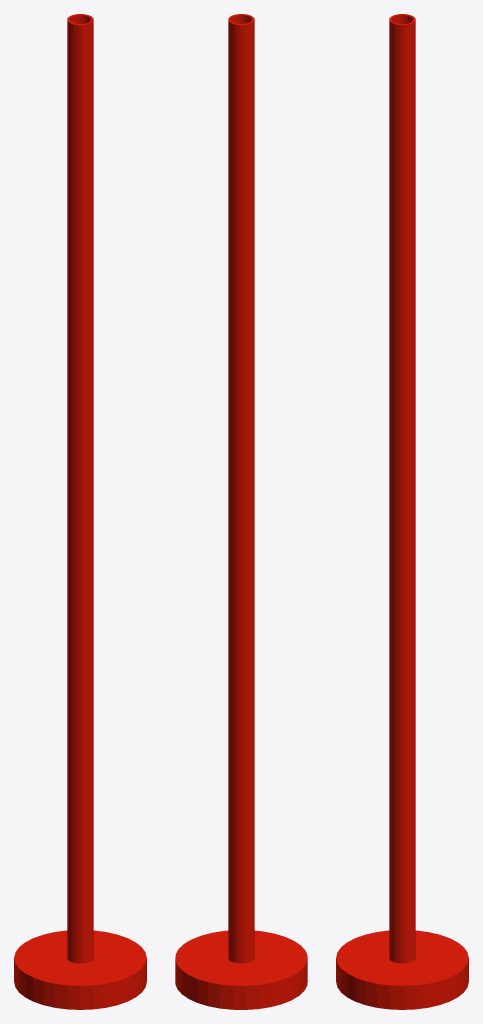
File: red_flare.dae
3 renders of one model, left to right at view 1: azimuth 90°, elevation 25°; view 2: azimuth 150°, elevation 25°; view 3: azimuth 270°, elevation 25°, orthographic.
Visible parts, largest first — view 1: Cylinder, Cylinder.001; view 2: Cylinder, Cylinder.001; view 3: Cylinder, Cylinder.001.
Part boxes in pixels (x1,y1,x2,y2): Cylinder: [67, 14, 93, 963]; Cylinder.001: [14, 930, 146, 1009]; Cylinder: [228, 14, 254, 963]; Cylinder.001: [175, 930, 307, 1009]; Cylinder: [389, 14, 415, 963]; Cylinder.001: [336, 930, 468, 1009].
Bounding box in the file's own units: 0.1 × 0.1 × 0.8.
